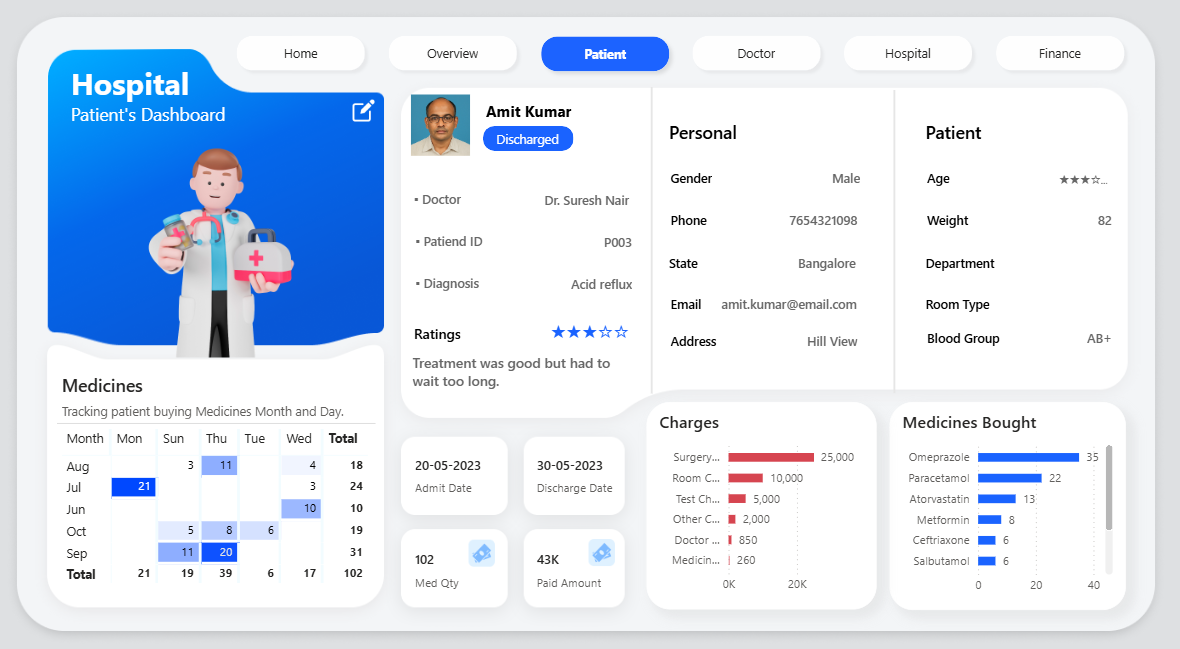

What the dashboard file says about the page in this screenshot:
{"tool":"powerbi","page":{"name":"Patient","canvas":[1280,720],"ordinal":2},"visuals":[{"type":"shape","box":[530.7,150.1,96.1,26.4],"z":0},{"type":"shape","box":[1002.6,358.3,87.5,32.8],"z":1000},{"type":"shape","box":[457.5,210.3,120.9,32.7],"z":2000},{"type":"shape","box":[1002.2,232.6,120.4,32.8],"z":3000},{"type":"shape","box":[728.3,278.5,120.4,32.8],"z":4000},{"type":"shape","box":[729.9,232.8,120.4,32.8],"z":5000},{"type":"shape","box":[1001.7,187.8,120.4,32.8],"z":6000},{"type":"shape","box":[729.9,321.5,120.4,32.8],"z":7000},{"type":"shape","box":[729.9,364.7,120.4,26.6],"z":8000},{"type":"shape","box":[1052.7,358.3,145,32.8],"z":9000},{"type":"shape","box":[543,211.4,143.8,32.8],"z":10000},{"type":"shape","box":[1052.7,232.6,145,32.8],"z":11000},{"type":"shape","box":[772.2,278.5,155,32.8],"z":12000},{"type":"shape","box":[773.8,232.8,155,32.8],"z":13000},{"type":"shape","box":[761.8,321.5,165.7,32.8],"z":14000},{"type":"shape","box":[729.5,188,120.4,32.8],"z":15000},{"type":"shape","box":[773.8,364.7,155,26.6],"z":16000},{"type":"shape","box":[785.8,188.1,145.4,32.7],"z":17000},{"type":"shape","box":[728.9,135.7,231.7,40.8],"z":18000},{"type":"shape","box":[1001.2,135.7,234.5,40.5],"z":19000},{"type":"clusteredBarChart","title":"Medicines Bought ","fields":{"Category":["Medical_Stock.name"],"Y":["Sum(Medicine_Sales.qty)"]},"box":[963.1,442.7,251,220.9],"z":20000},{"type":"clusteredBarChart","title":"Charges","fields":{"Category":["Hospital_Bills.Charges Type"],"Y":["Sum(Hospital_Bills.Value)"]},"box":[704.8,442.4,244,220.2],"z":21000},{"type":"shape","box":[534.8,115.4,155.2,32.7],"z":22000},{"type":"card","fields":{"Values":["Min(Patient.status)"]},"box":[535.5,150.1,84.1,32.4],"z":23000},{"type":"cardVisual","fields":{"Data":["Min(Patient.admission_date)","Min(Patient.discharge_date)","Sum(Medicine_Sales.qty)","Sum(Hospital_Bills.Value)"]},"box":[441.7,469.1,260.7,203.6],"z":24000},{"type":"shape","box":[1000.6,321.5,120.9,32.7],"z":25000},{"type":"shape","box":[1053.5,318.4,145.4,32.7],"z":26000},{"type":"shape","box":[1000.7,278.5,120.9,32.7],"z":27000},{"type":"shape","box":[1052.7,278.4,145,32.8],"z":28000},{"type":"shape","box":[459.7,254.3,120.4,32.8],"z":29000},{"type":"shape","box":[543.8,255.4,145.4,32.7],"z":30000},{"type":"shape","box":[458.7,351.8,92.5,34.8],"z":32000},{"type":"pageNavigator","box":[261.8,46.8,959.4,52.8],"z":33000},{"type":"textbox","box":[88.9,76.8,188.5,78],"z":34000},{"type":"pivotTable","title":"Medicines","fields":{"Columns":["Calender.Day"],"Rows":["Calender.Month"],"Values":["Sum(Medicine_Sales.qty)"]},"box":[79.8,411.9,338.1,236.9],"z":35000},{"type":"shape","box":[456.8,390.5,230.5,49.2],"z":36000},{"type":"image","box":[638.1,582.1,38.1,39.3],"z":37000},{"type":"image","box":[510.3,582.4,38.4,40.8],"z":38000},{"type":"card","fields":{"Values":["Appointment.Sum of rating star rating"]},"box":[576.8,347.3,133.3,43.2],"z":39000},{"type":"shape","box":[460.1,298.9,120.4,32.8],"z":40000},{"type":"shape","box":[544.2,300,145.4,32.7],"z":41000},{"type":"shape","box":[953.6,110.7,26.2,321.4],"z":42000},{"type":"shape","box":[692.9,108.3,33.3,325],"z":43000},{"type":"image","box":[75,146.4,347.6,253.6],"z":44000},{"type":"image","box":[384.2,116.5,39.6,33.6],"z":45000},{"type":"card","fields":{"Values":["Appointment.Sum of rating star rating"]},"box":[1135.7,189.3,63.1,38.1],"z":46000},{"type":"cardVisual","fields":{"Data":["Min(Patient.Img)"]},"box":[441.7,116.7,88.3,65],"z":48000}]}

Visuals, with their boxes in screenshot pixels (x1, y1, x2, y2), scaled from the page's 1280x720 canvas onto the 1180x649 screenshot:
shape: bbox=[489, 135, 578, 159]
shape: bbox=[924, 323, 1005, 353]
shape: bbox=[422, 190, 533, 219]
shape: bbox=[924, 210, 1035, 239]
shape: bbox=[671, 251, 782, 281]
shape: bbox=[673, 210, 784, 239]
shape: bbox=[923, 169, 1034, 199]
shape: bbox=[673, 290, 784, 319]
shape: bbox=[673, 329, 784, 353]
shape: bbox=[970, 323, 1104, 353]
shape: bbox=[501, 191, 633, 220]
shape: bbox=[970, 210, 1104, 239]
shape: bbox=[712, 251, 855, 281]
shape: bbox=[713, 210, 856, 239]
shape: bbox=[702, 290, 855, 319]
shape: bbox=[673, 169, 784, 199]
shape: bbox=[713, 329, 856, 353]
shape: bbox=[724, 170, 858, 199]
shape: bbox=[672, 122, 886, 159]
shape: bbox=[923, 122, 1139, 159]
"Medicines Bought " clusteredBarChart: bbox=[888, 399, 1119, 598]
"Charges" clusteredBarChart: bbox=[650, 399, 875, 597]
shape: bbox=[493, 104, 636, 133]
card - Min(Patient.status): bbox=[494, 135, 571, 165]
cardVisual - Min(Patient.admission_date) x Min(Patient.discharge_date): bbox=[407, 423, 648, 606]
shape: bbox=[922, 290, 1034, 319]
shape: bbox=[971, 287, 1105, 316]
shape: bbox=[923, 251, 1034, 281]
shape: bbox=[970, 251, 1104, 281]
shape: bbox=[424, 229, 535, 259]
shape: bbox=[501, 230, 635, 260]
shape: bbox=[423, 317, 508, 348]
pageNavigator: bbox=[241, 42, 1126, 90]
textbox: bbox=[82, 69, 256, 140]
"Medicines" pivotTable: bbox=[74, 371, 385, 585]
shape: bbox=[421, 352, 634, 396]
image: bbox=[588, 525, 623, 560]
image: bbox=[470, 525, 506, 562]
card - Appointment.Sum of rating star rating: bbox=[532, 313, 655, 352]
shape: bbox=[424, 269, 535, 299]
shape: bbox=[502, 270, 636, 300]
shape: bbox=[879, 100, 903, 389]
shape: bbox=[639, 98, 669, 391]
image: bbox=[69, 132, 390, 361]
image: bbox=[354, 105, 391, 135]
card - Appointment.Sum of rating star rating: bbox=[1047, 171, 1105, 205]
cardVisual - Min(Patient.Img): bbox=[407, 105, 489, 164]
